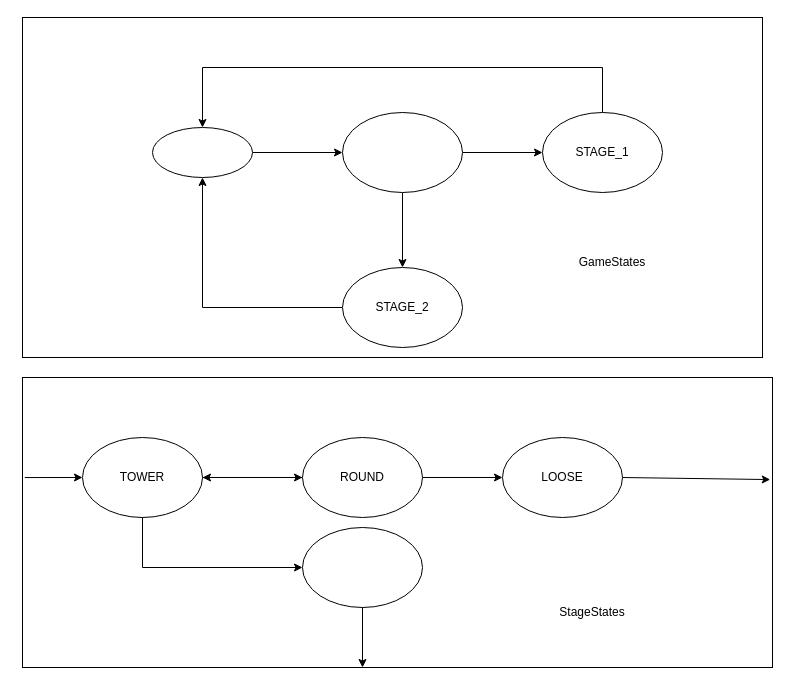
This 796x693 diagram has some shape labels left out. Here are the shapes that lost their labels. From the top down, the centre of each, then its label:
At [202,152]: "MAIN_MENU".
At [402,152]: "STAGE_MENU".
At [362,567]: "WIN".
